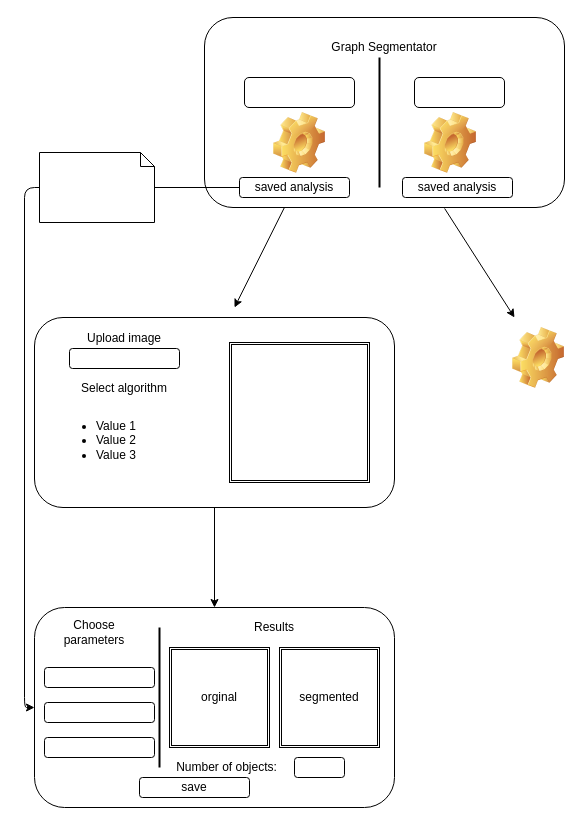
The diagram is 582 pixels wide and 825 high, and some of its shapes have lost their labels. Each missing label, with the centre of its shape:
"Object tracking" belongs at point 459,92.
"Segmentation and counting" belongs at point 299,92.
"Should set saved parameters" belongs at point 96,187.
